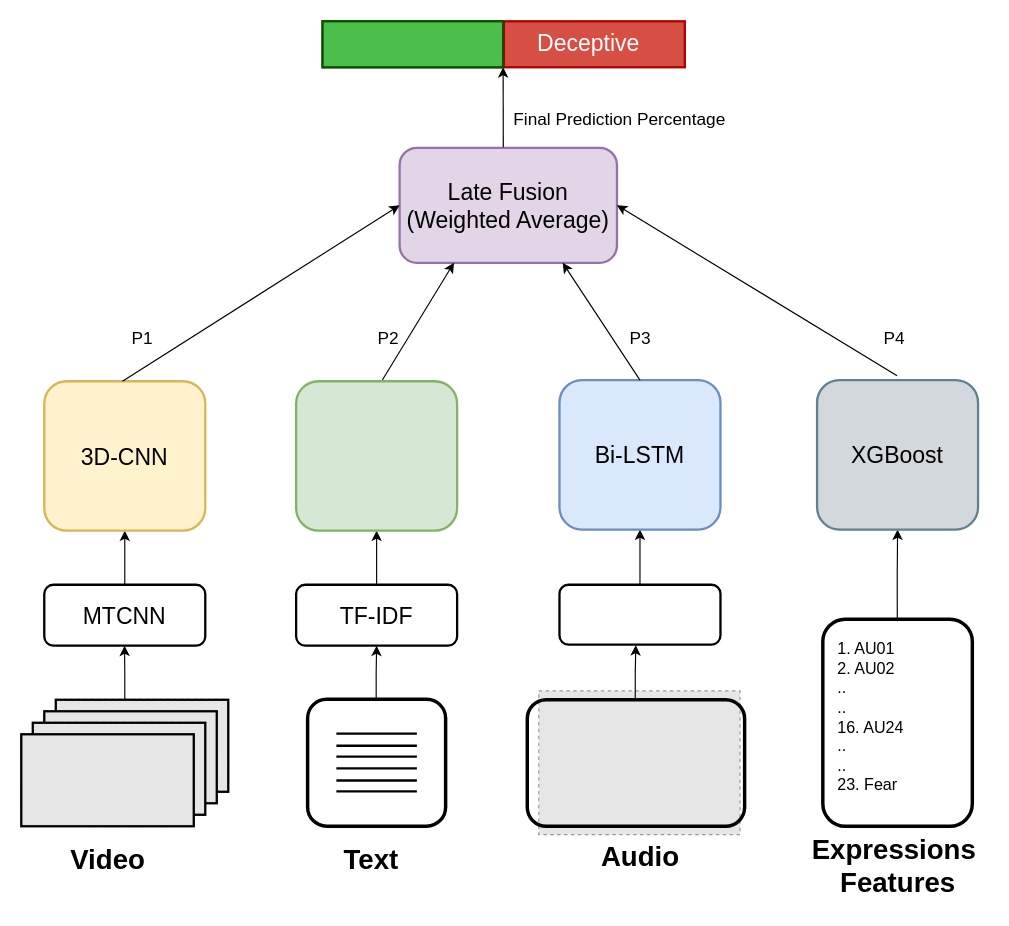
This 1009x926 diagram has some shape labels left out. Grey dashed boxes stand in for pictures. The centre of each missing label's shape, as x and y in pixels:
ANN: pixel 376 455
MFCCs: pixel 639 614
Turthful: pixel 412 44
